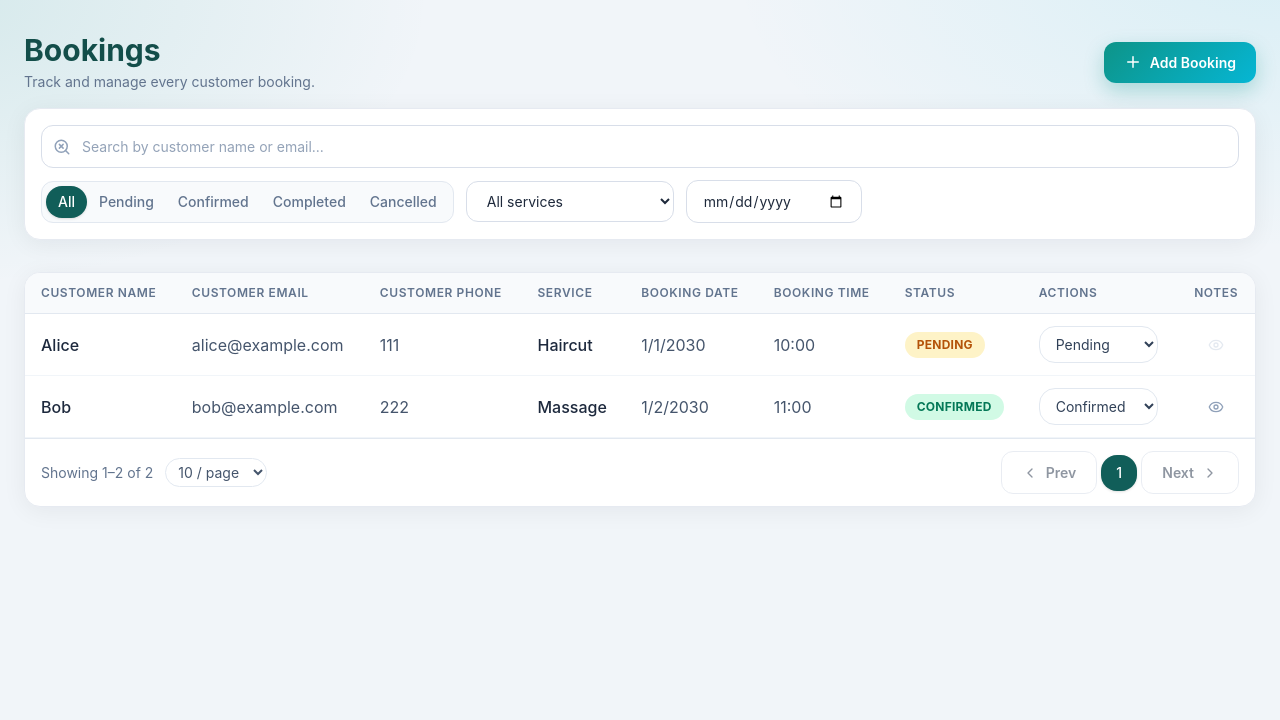
Test case: Bookings Page › filters bookings by search term
Expected: the text "Alice" is shown, [25,314,176,376]
In the field with placeholder "Search by customer name or email...": (640, 146) [41,125,1239,168], type "alice"
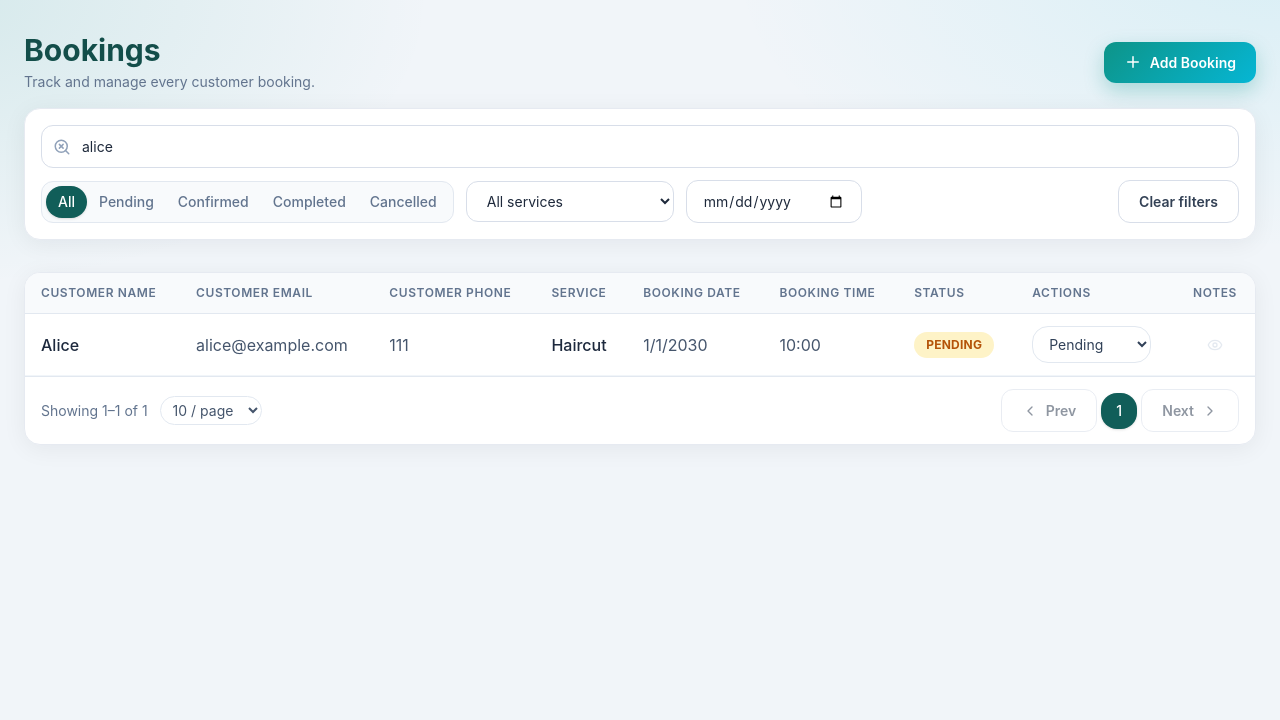
Expected: the text "Alice" is shown, [25,314,180,376]
Expected: the text "Bob" is gone
